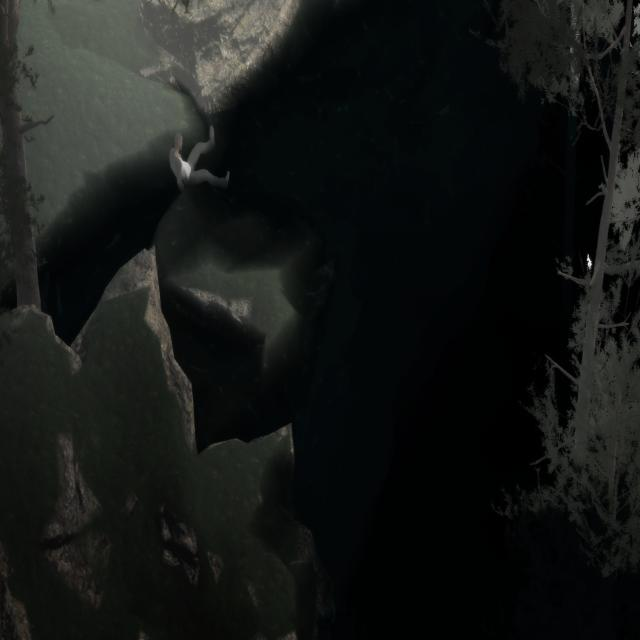Human: (167, 123, 235, 196)
